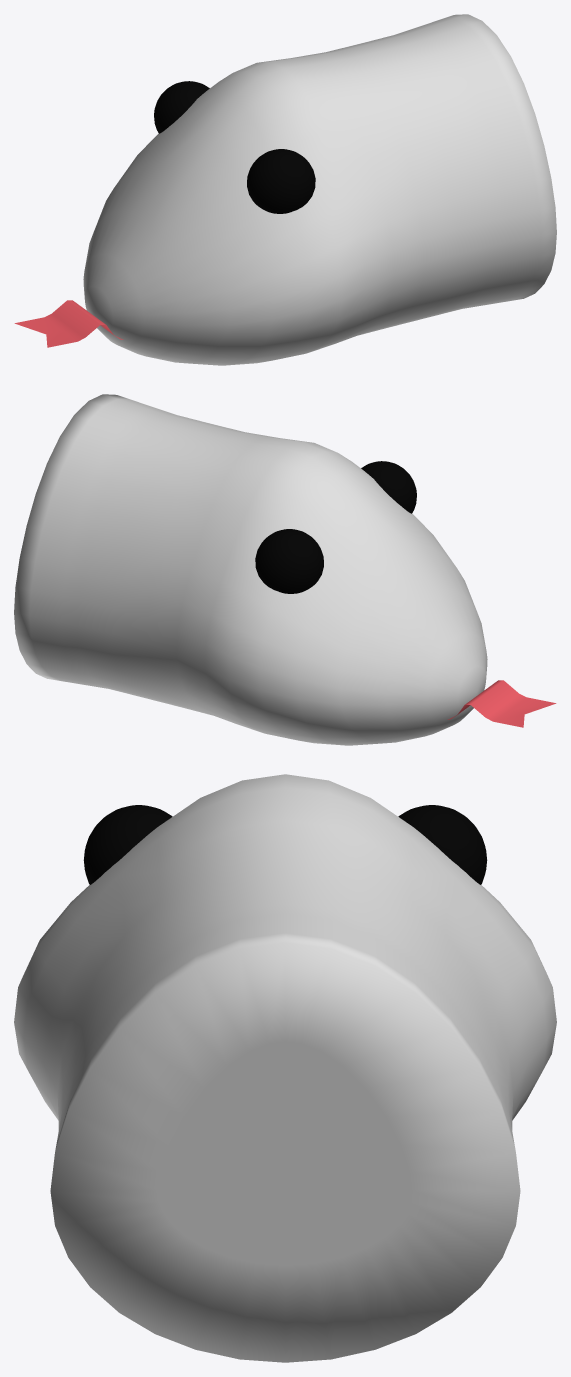
Rendered from snake 3.fbx.
3 renders of one model, top to bottom at view 1: azimuth 30°, elevation 25°; view 2: azimuth 150°, elevation 25°; view 3: azimuth 270°, elevation 25°, orthographic. The views are drawn at different scales.
Visible parts, largest first — view 1: Cylinder, Sphere, Plane; view 2: Cylinder, Sphere, Plane; view 3: Cylinder, Sphere.
Boxes of the visible parts, bbox=[...] form: Cylinder: bbox=[83, 14, 556, 365]; Sphere: bbox=[154, 81, 315, 213]; Plane: bbox=[14, 300, 123, 347]; Cylinder: bbox=[14, 394, 487, 745]; Sphere: bbox=[255, 461, 416, 593]; Plane: bbox=[447, 680, 556, 727]; Cylinder: bbox=[14, 774, 556, 1362]; Sphere: bbox=[83, 805, 487, 884].
Size of the model in its own units: 364 by 205 by 239.
